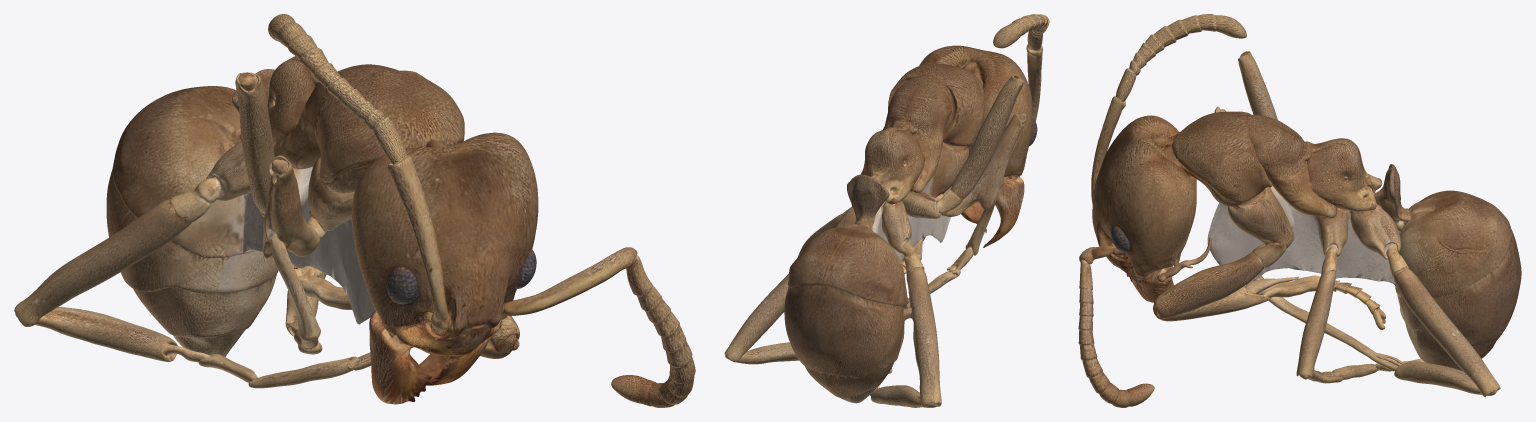
File: esp4.glb
3 renders of one model, left to right at view 1: azimuth 30°, elevation 25°; view 2: azimuth 150°, elevation 25°; view 3: azimuth 270°, elevation 25°, orthographic. The views are drawn at different scales.
Bounding box in the file's own units: 1.38 × 1.59 × 1.9.
Materials: 1 (1 with a texture image).
